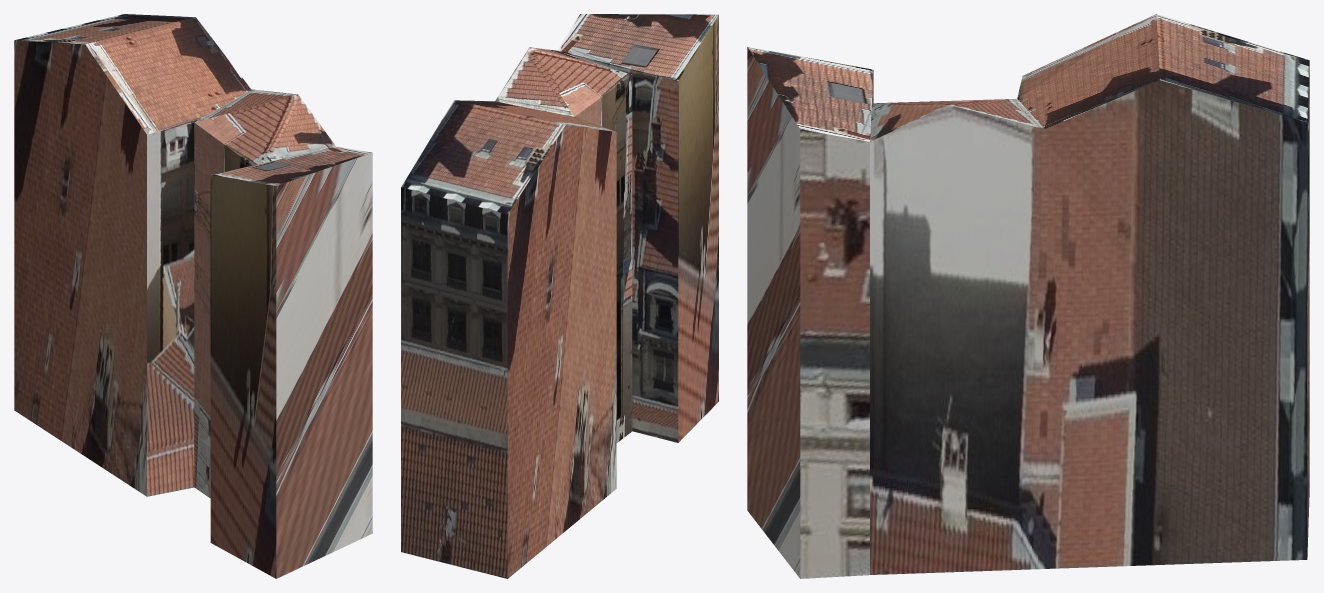
3 views of the same model, side by side, from view 1: azimuth 30°, elevation 25°; view 2: azimuth 150°, elevation 25°; view 3: azimuth 270°, elevation 25° (orthographic). The views are drawn at different scales.
Visible parts, largest first — view 1: Z_UP; view 2: Z_UP; view 3: Z_UP.
Part boxes in pixels (<box>): Z_UP: <box>14,14,372,578</box>; Z_UP: <box>401,14,718,578</box>; Z_UP: <box>747,14,1309,578</box>.
Size of the model in its own units: 8.65 by 23.94 by 25.07.
Materials: 2 (1 with a texture image).
